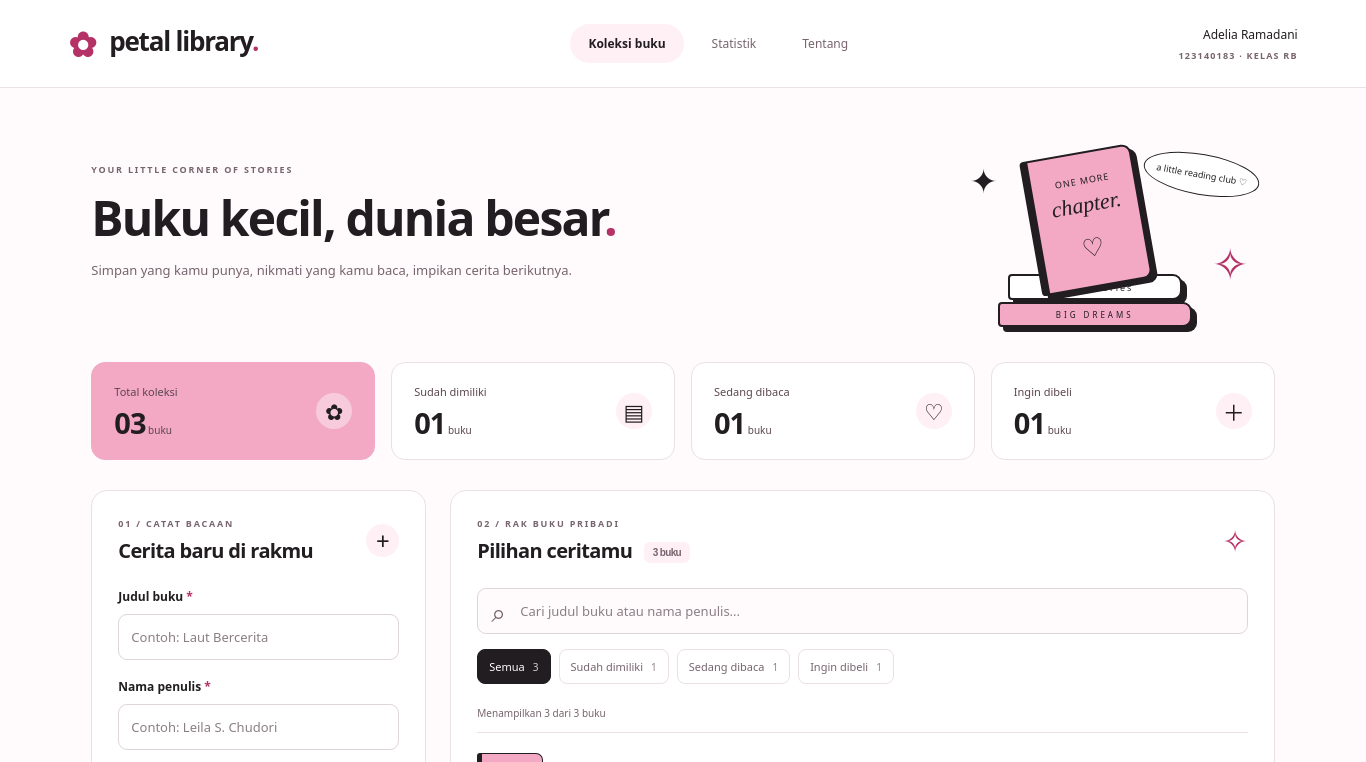
Test: menggabungkan filter status dan kata pencarian
Click the button "Ingin dibeli1": (846, 666) [798,649,894,684]
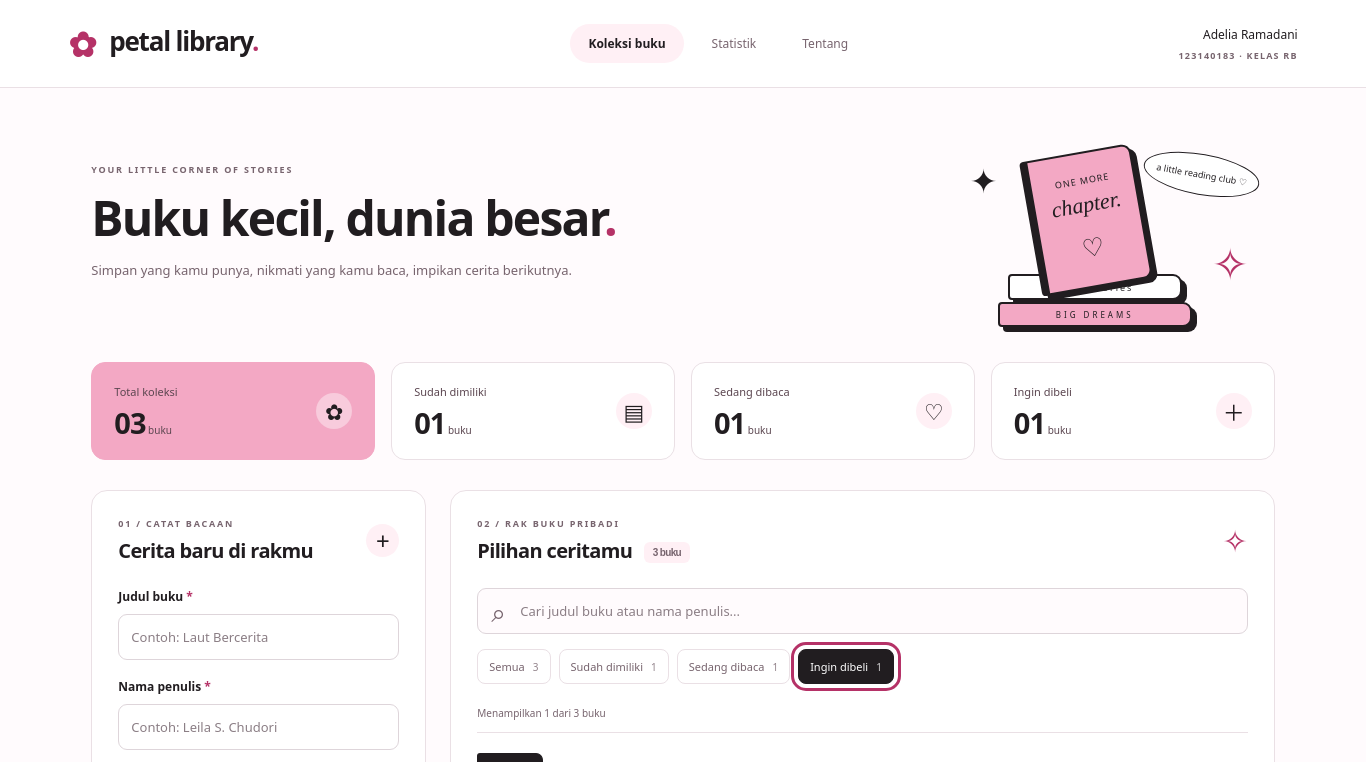
In the search field: (862, 611) [477,588,1248,634], type "Leila"
(page scrolled)
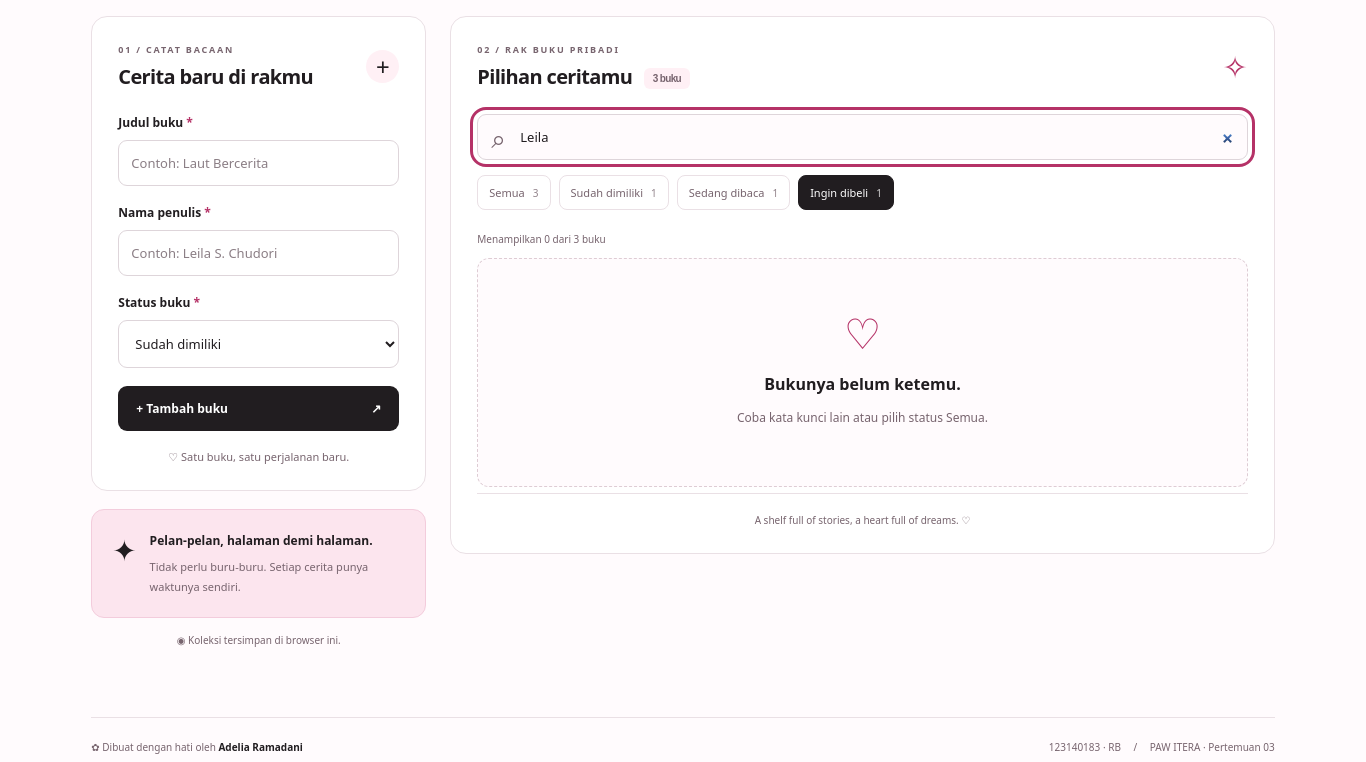
Check: the heading "Bukunya belum ketemu." is shown, box [764,373,961,395]
